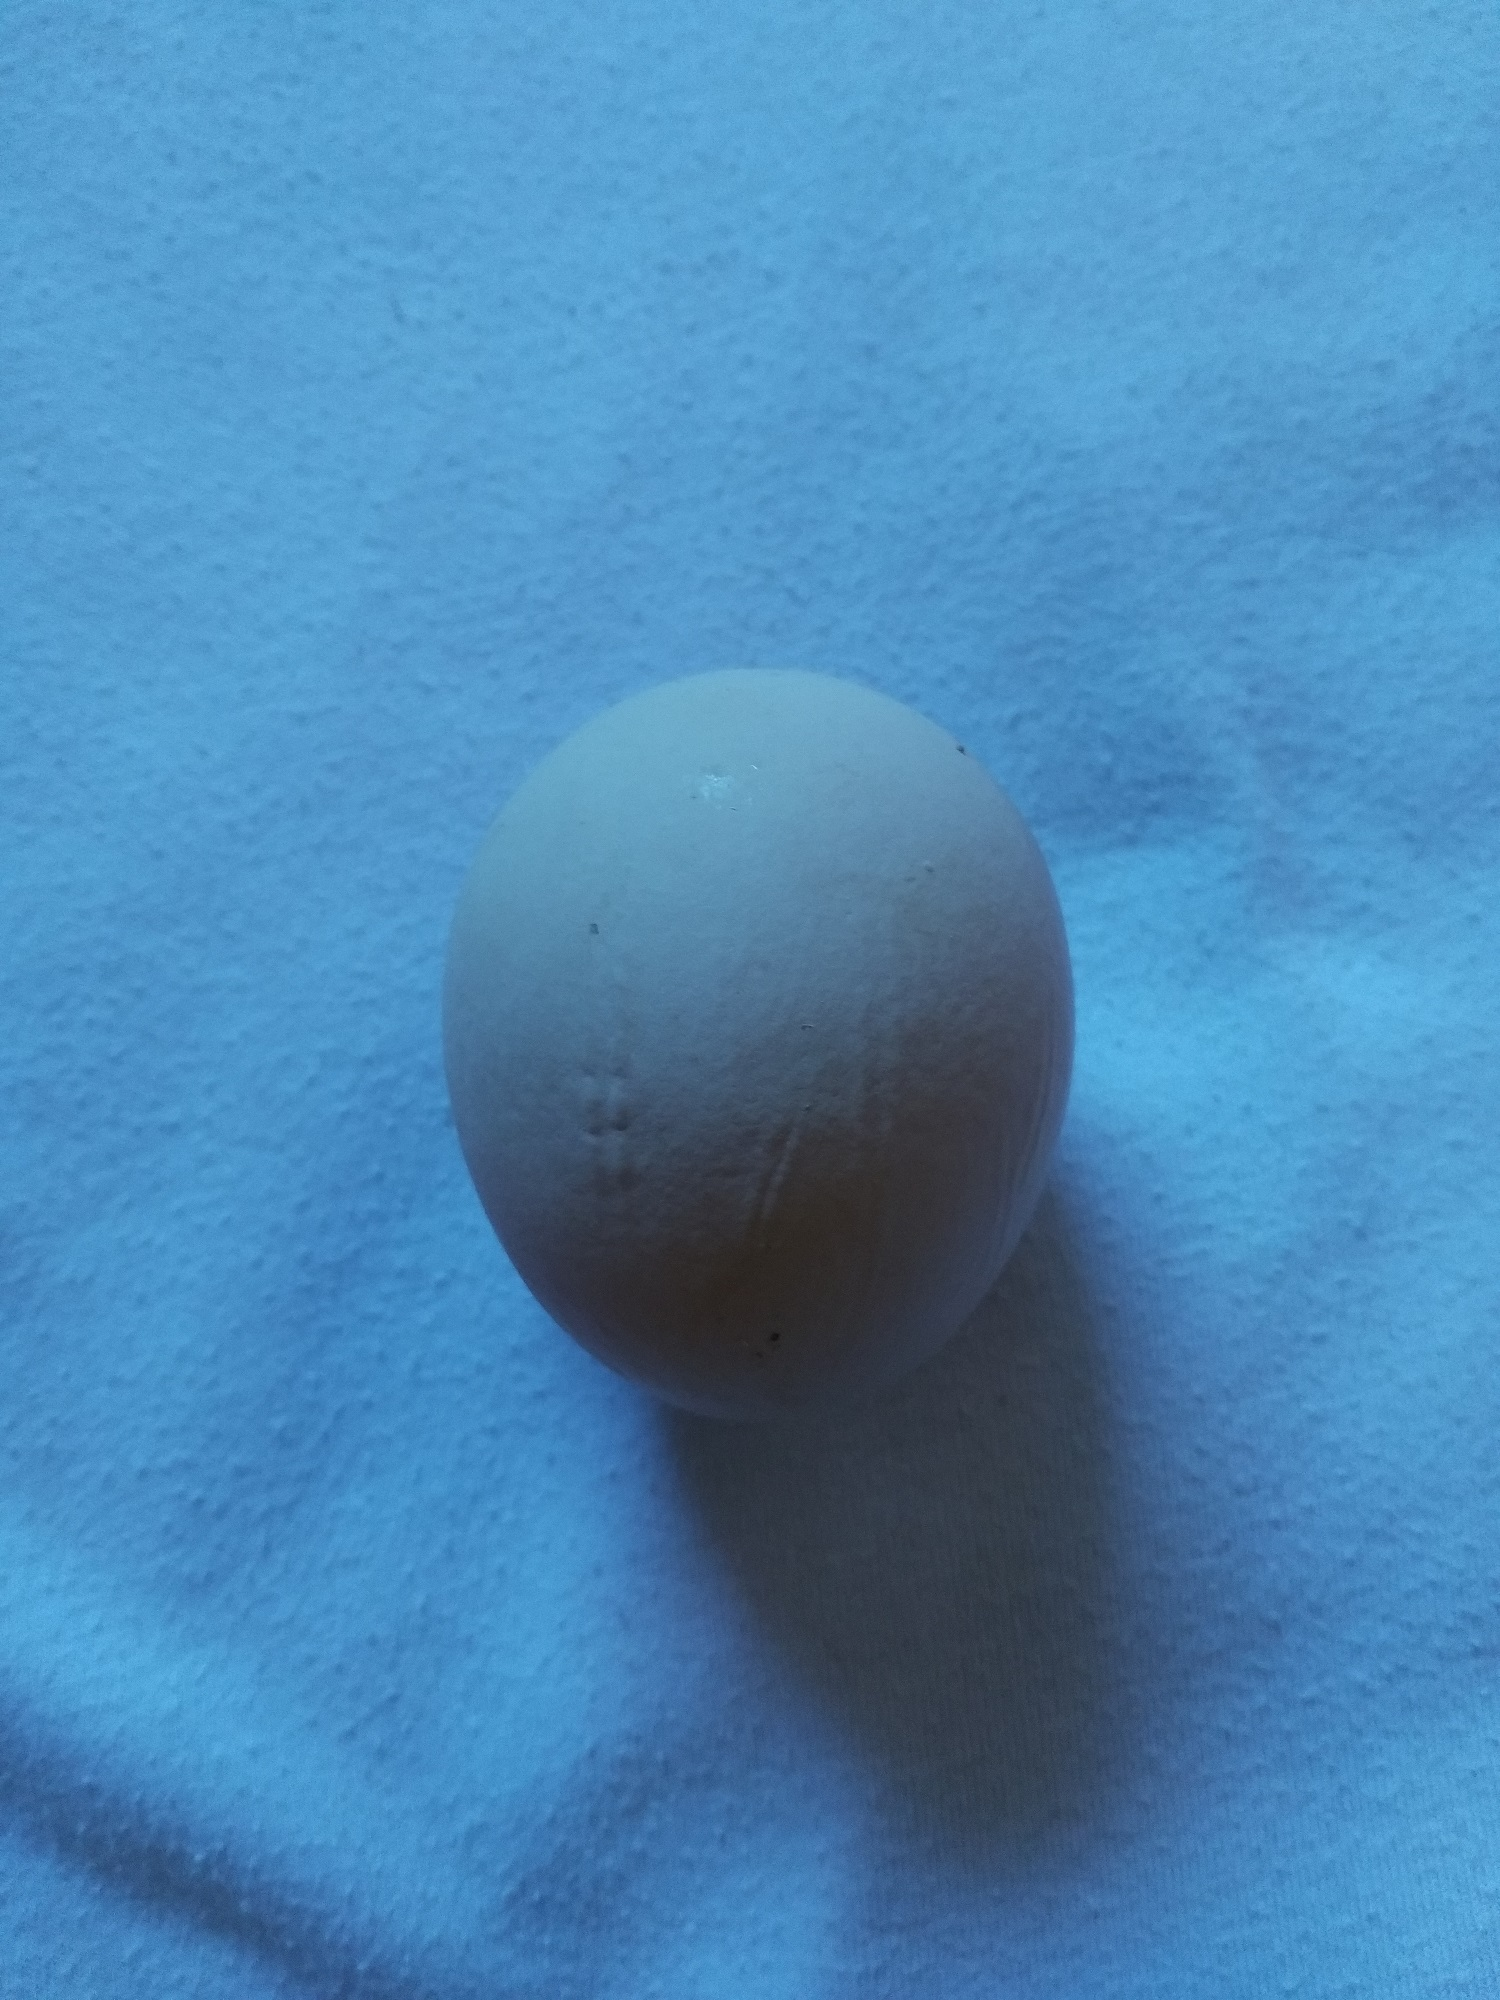Female: (429, 657, 1081, 1435)
